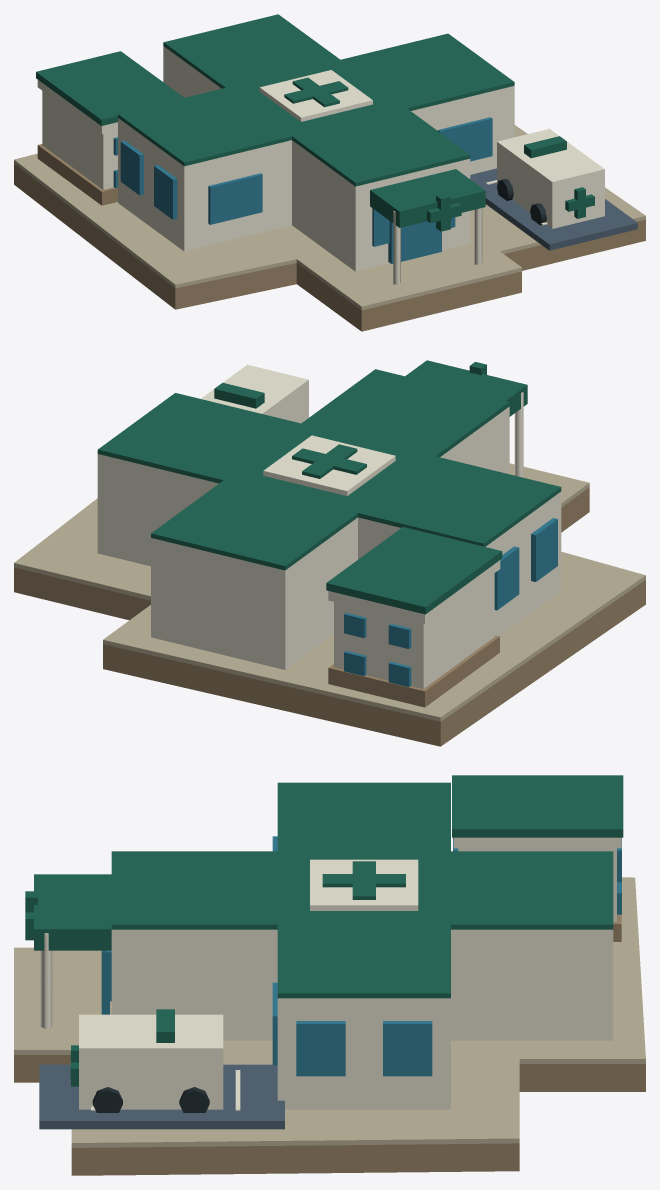
File: medical-center-lv2.glb
3 views of the same model, one above another, from view 1: azimuth 30°, elevation 25°; view 2: azimuth 150°, elevation 25°; view 3: azimuth 270°, elevation 25° (orthographic). The views are drawn at different scales.
Parts seen in each view (by area): view 1: cross_clinic_jade, cross_clinic_white, foundation_paving, foundation_stoneDark, ambulance_white, inpatient_wing_roof_jade, inpatient_wing_white, clinic_windows_glass, entry_canopy_jade, ambulance_lane_slate, roof_mark_white, side_clinic_windows_glass (+8 smaller); view 2: cross_clinic_jade, cross_clinic_white, foundation_paving, foundation_stoneDark, inpatient_wing_white, inpatient_wing_roof_jade, roof_mark_white, inpatient_wing_stoneDark, ambulance_white, side_clinic_windows_glass, entry_canopy_jade, inpatient_wing_windows_glass (+3 smaller); view 3: cross_clinic_jade, cross_clinic_white, foundation_paving, foundation_stoneDark, ambulance_white, inpatient_wing_roof_jade, ambulance_lane_slate, entry_canopy_jade, side_clinic_windows_glass, roof_mark_white, inpatient_wing_white, roof_mark_jade (+4 smaller).
Part boxes in pixels (bbox=[...]): cross_clinic_jade: bbox=[118, 14, 514, 186]; cross_clinic_white: bbox=[118, 46, 514, 271]; foundation_paving: bbox=[14, 125, 645, 310]; foundation_stoneDark: bbox=[14, 163, 645, 331]; ambulance_white: bbox=[497, 129, 604, 228]; inpatient_wing_roof_jade: bbox=[36, 51, 184, 125]; inpatient_wing_white: bbox=[37, 80, 117, 189]; clinic_windows_glass: bbox=[208, 117, 492, 246]; entry_canopy_jade: bbox=[370, 169, 485, 227]; ambulance_lane_slate: bbox=[470, 168, 637, 250]; roof_mark_white: bbox=[259, 70, 372, 121]; side_clinic_windows_glass: bbox=[120, 140, 177, 219]; cross_clinic_jade: bbox=[97, 369, 561, 570]; cross_clinic_white: bbox=[97, 406, 561, 669]; foundation_paving: bbox=[14, 463, 645, 721]; foundation_stoneDark: bbox=[14, 487, 645, 746]; inpatient_wing_white: bbox=[328, 560, 500, 688]; inpatient_wing_roof_jade: bbox=[326, 527, 502, 614]; roof_mark_white: bbox=[263, 435, 395, 495]; inpatient_wing_stoneDark: bbox=[328, 635, 499, 707]; ambulance_white: bbox=[201, 364, 308, 423]; side_clinic_windows_glass: bbox=[494, 518, 557, 610]; entry_canopy_jade: bbox=[405, 360, 527, 416]; inpatient_wing_windows_glass: bbox=[344, 612, 411, 686]; cross_clinic_jade: bbox=[111, 782, 613, 998]; cross_clinic_white: bbox=[111, 929, 613, 1109]; foundation_paving: bbox=[14, 877, 645, 1147]; foundation_stoneDark: bbox=[14, 1055, 645, 1175]; ambulance_white: bbox=[79, 1014, 223, 1109]; inpatient_wing_roof_jade: bbox=[452, 775, 623, 837]; ambulance_lane_slate: bbox=[39, 1064, 284, 1129]; entry_canopy_jade: bbox=[34, 874, 111, 950]; side_clinic_windows_glass: bbox=[296, 1021, 432, 1076]; roof_mark_white: bbox=[310, 859, 418, 910]; inpatient_wing_white: bbox=[453, 837, 621, 921]; roof_mark_jade: bbox=[322, 861, 405, 899].
Size of the model in its own units: 1 by 0.2729 by 0.9887.
